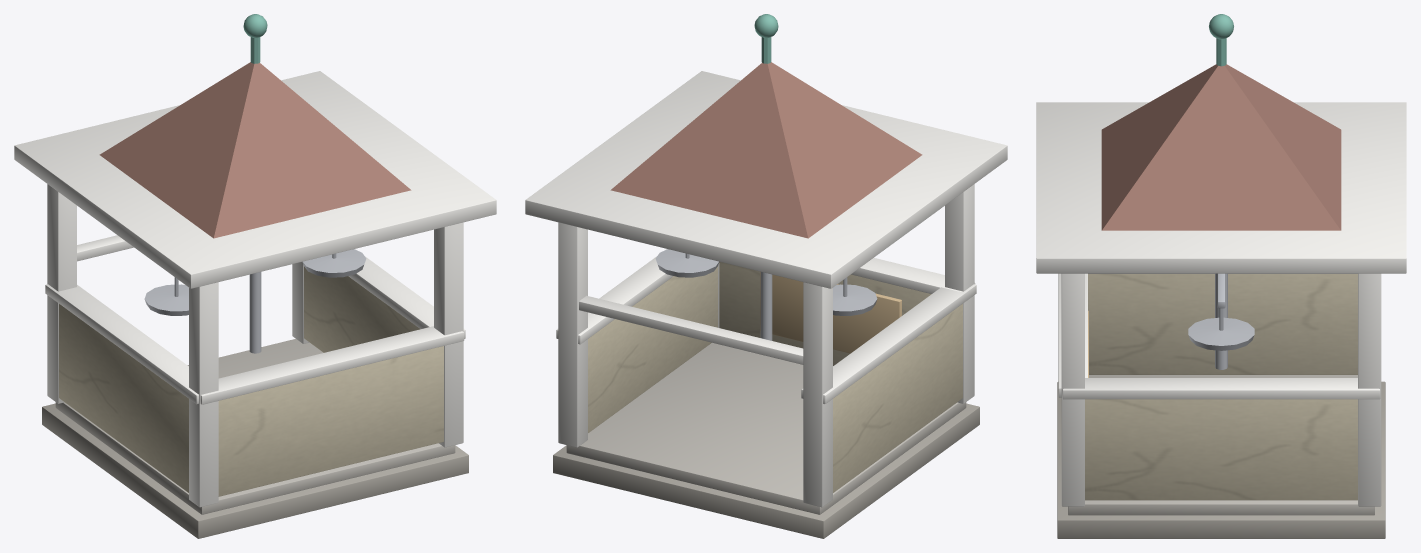
Rendered from th48_marktwaage.glb.
The picture shows the model from 3 angles, left to right: view 1: azimuth 30°, elevation 25°; view 2: azimuth 150°, elevation 25°; view 3: azimuth 270°, elevation 25°; orthographic projection. The views are drawn at different scales.
Visible parts, largest first — view 1: Cube.013, Cone, Cube.006, Cube.008, Cube, Cube.001, Cube.002, Cube.010, Cube.007, Cube.004, Cube.009, Cube.003 (+6 smaller); view 2: Cube.013, Cone, Cube.001, Cube.008, Cube, Cube.010, Cube.003, Cube.005, Cube.009, Cube.006, Cube.015, Cube.002 (+6 smaller); view 3: Cube.013, Cone, Cube.010, Cube.008, Cube, Cube.011, Cube.001, Cube.004, Cube.005, Schale.001, Cube.007, Cylinder.001 (+1 smaller).
Part boxes in pixels (x1,y1,x2,y2): Cube.013: (14,71,496,288); Cone: (99,62,411,238); Cube.006: (218,346,443,496); Cube.008: (59,304,188,492); Cube: (42,403,468,538); Cube.001: (55,339,455,514); Cube.002: (189,282,218,507); Cube.010: (304,266,420,352); Cube.007: (200,326,464,404); Cube.004: (434,222,463,447); Cube.009: (45,284,198,403); Cube.003: (47,184,76,403); Cube.013: (525,71,1007,288); Cone: (610,62,922,238); Cube.001: (566,342,966,514); Cube.008: (833,304,962,492); Cube: (553,403,979,538); Cube.010: (588,266,717,432); Cube.003: (803,282,832,507); Cube.005: (558,222,587,447); Cube.009: (801,284,976,403); Cube.006: (719,262,931,365); Cube.015: (760,271,901,353); Cube.002: (945,184,974,403); Cube.013: (1036,102,1406,273); Cone: (1101,64,1341,230); Cube.010: (1085,399,1357,500); Cube.008: (1088,274,1357,374); Cube: (1057,381,1385,538); Cube.011: (1062,378,1380,399); Cube.001: (1068,375,1374,515); Cube.004: (1061,273,1084,506); Cube.005: (1358,273,1381,506); Schale.001: (1188,317,1254,350); Cube.007: (1058,273,1087,397); Cylinder.001: (1215,273,1227,369).
Bounding box in the file's own units: 3.5 × 4.74 × 3.5.
Materials: 8 (1 with a texture image).
